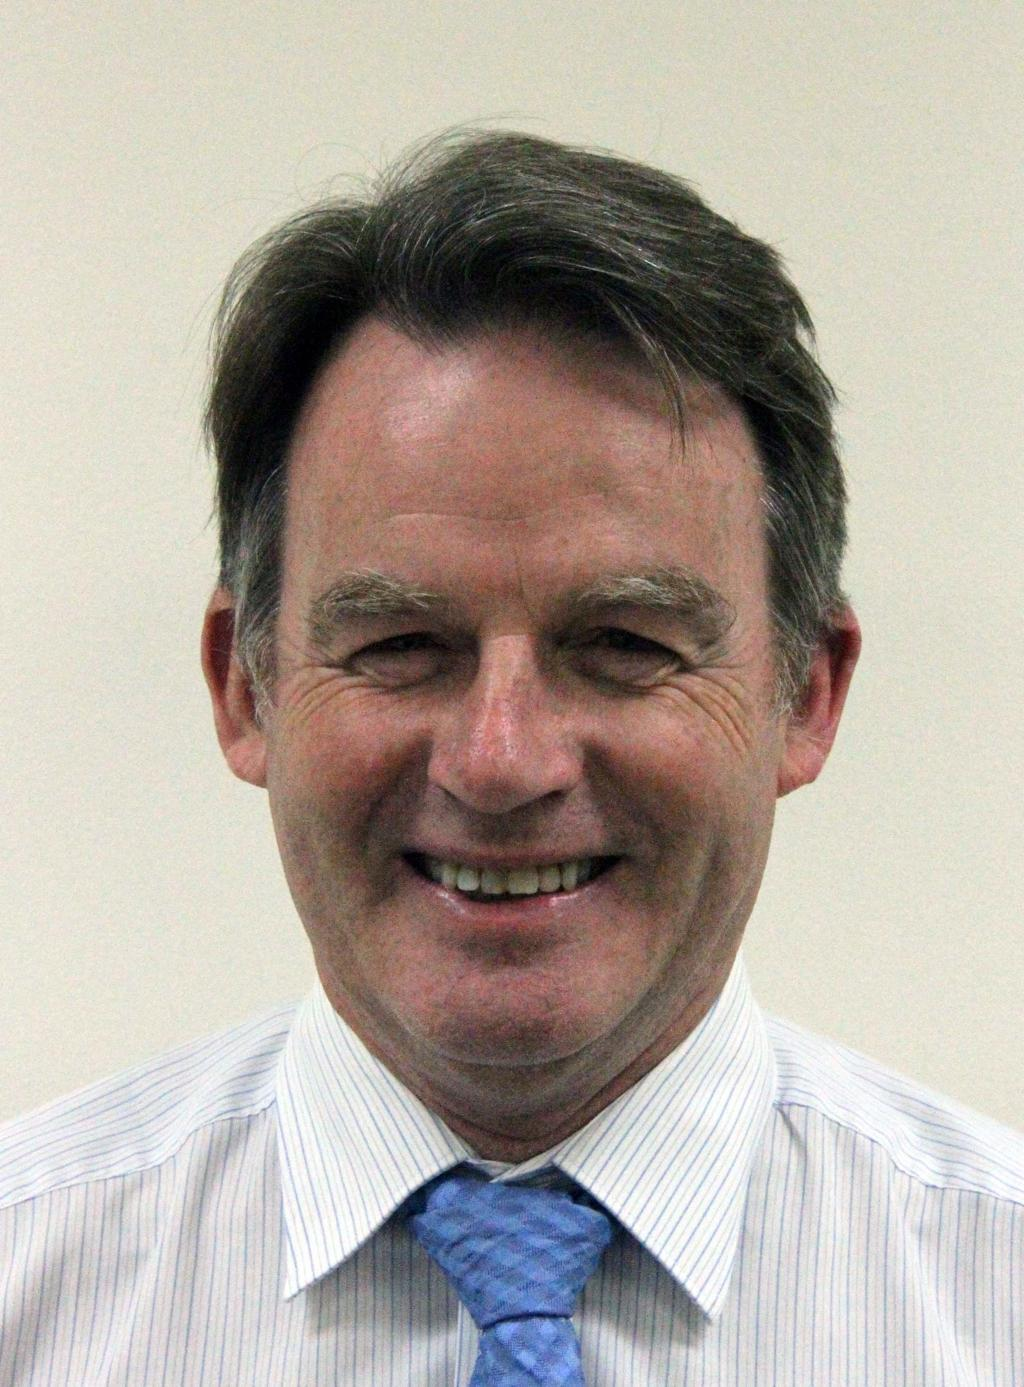face: (291, 334, 787, 1068)
